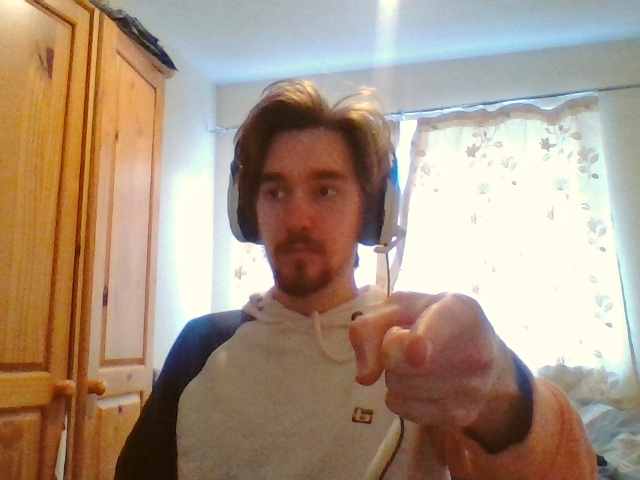you: (349, 293, 495, 428)
